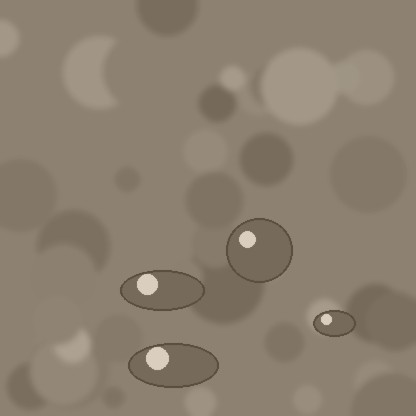gota: (226, 220, 292, 288), (128, 345, 218, 391), (120, 272, 204, 314), (313, 311, 355, 339)
